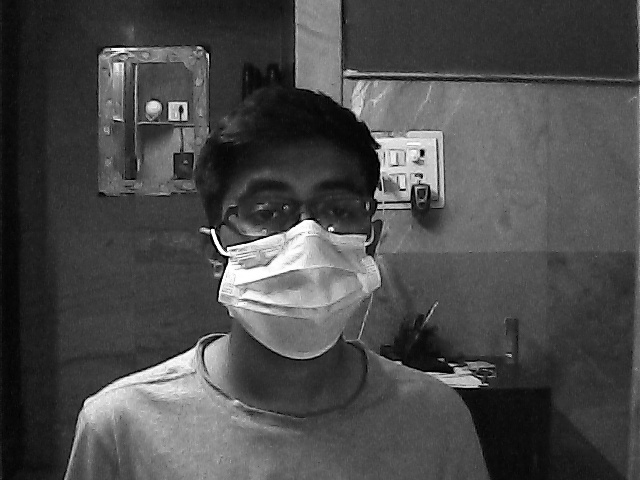mask: (210, 164, 378, 364)
